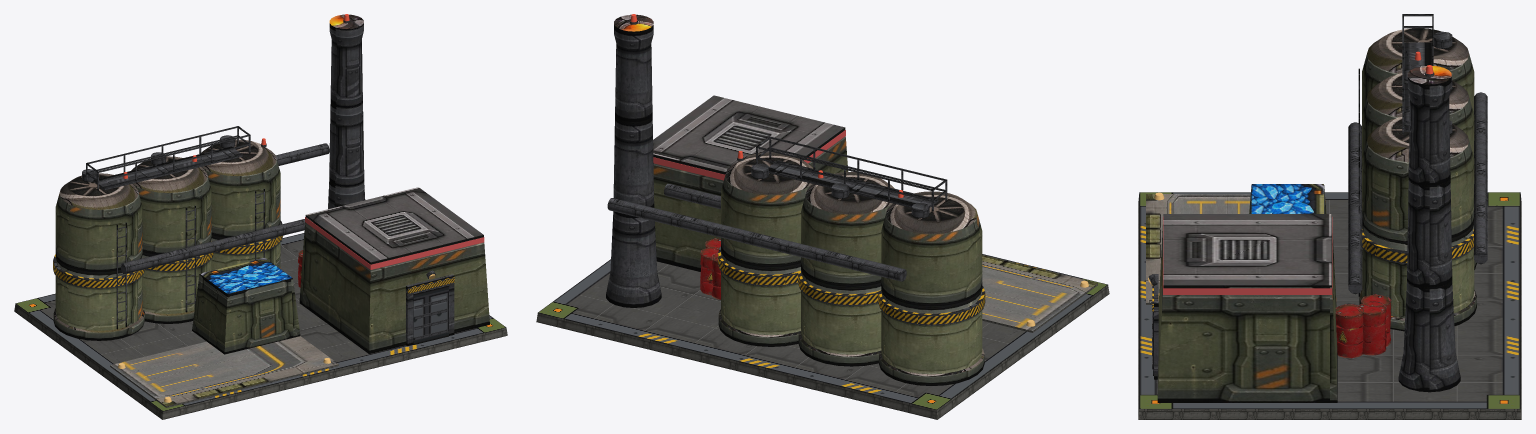
Rendered from refinery.glb.
3 renders of one model, left to right at view 1: azimuth 30°, elevation 25°; view 2: azimuth 150°, elevation 25°; view 3: azimuth 270°, elevation 25°, orthographic. The views are drawn at different scales.
Parts seen in each view (by area): view 1: Base; view 2: Base; view 3: Base.
Boxes of the visible parts, x1=… form: Base: x1=14, y1=14, x2=507, y2=419; Base: x1=536, y1=14, x2=1109, y2=419; Base: x1=1138, y1=14, x2=1521, y2=419.
Bounding box in the file's own units: 15.6 × 10.8 × 11.6.
15 materials, 12 textured.
